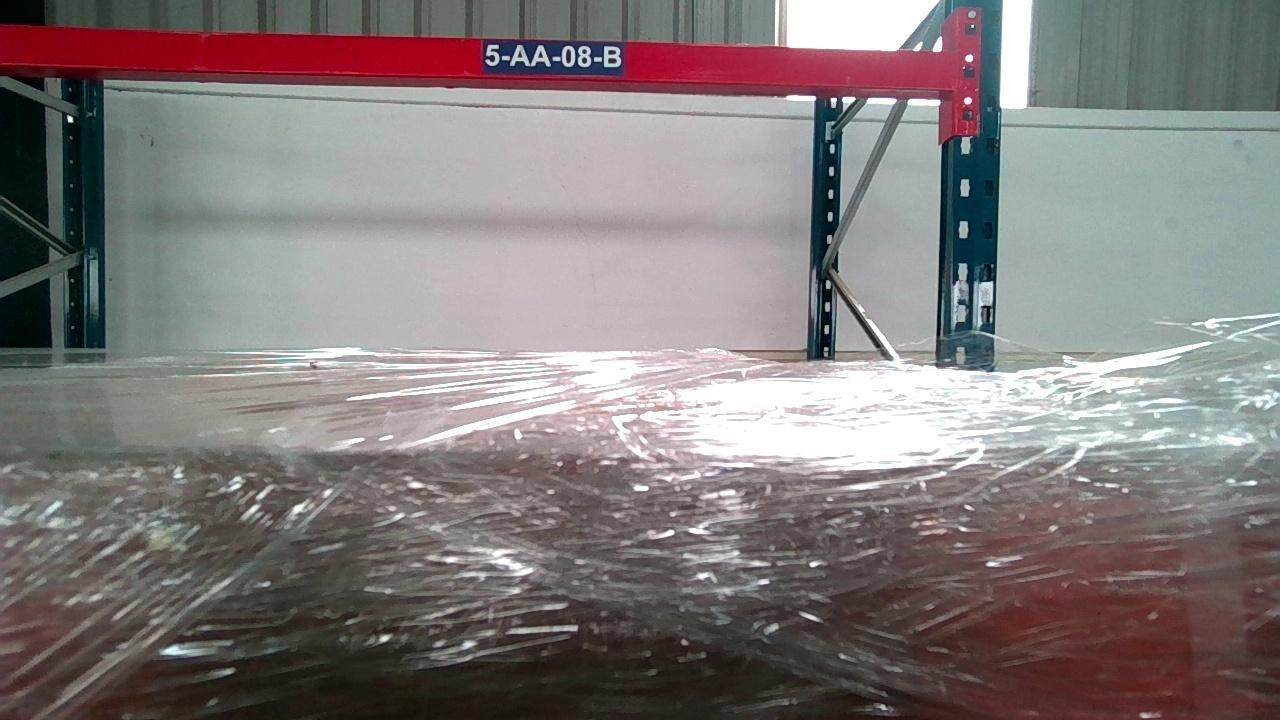h_rack: (0, 24, 953, 92)
